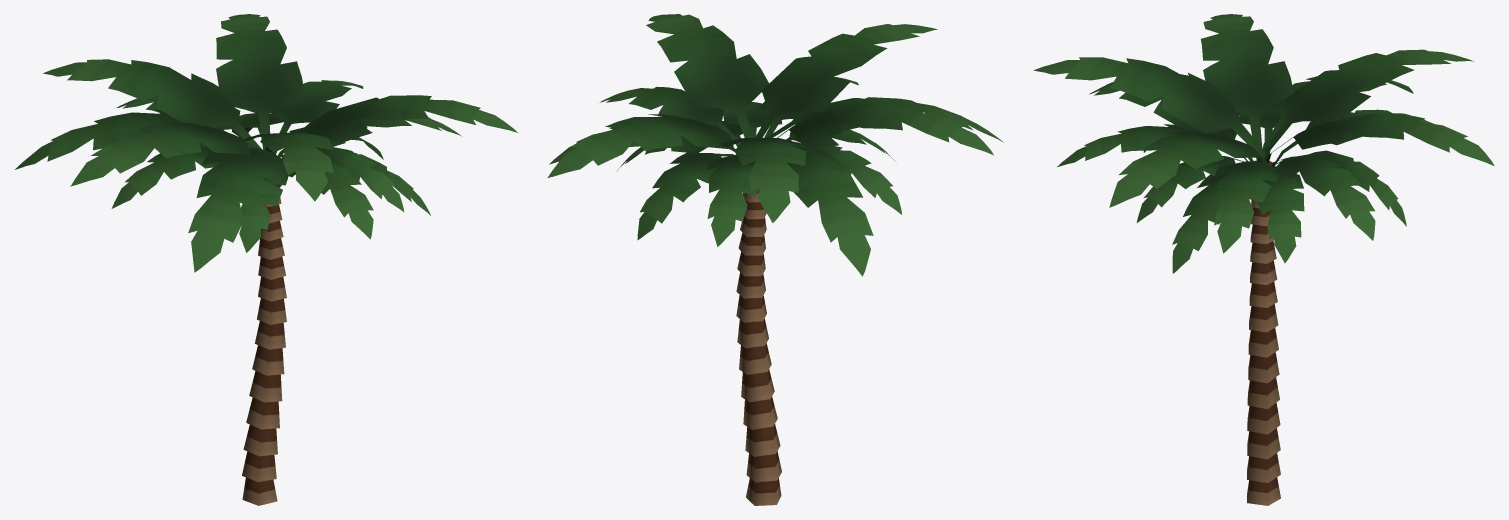
Rendered from PalmTree01.fbx.
The picture shows the model from 3 angles, left to right: view 1: azimuth 30°, elevation 25°; view 2: azimuth 150°, elevation 25°; view 3: azimuth 270°, elevation 25°; orthographic projection.
Parts seen in each view (by area): view 1: palmtree_LOD0; view 2: palmtree_LOD0; view 3: palmtree_LOD0.
Part boxes in pixels (x1=…): palmtree_LOD0: x1=15, y1=14, x2=517, y2=505; palmtree_LOD0: x1=547, y1=14, x2=1003, y2=505; palmtree_LOD0: x1=1033, y1=14, x2=1494, y2=505.
Size of what is drawn, in the model's own units: 817 by 816 by 823.
1 material, 1 textured.
